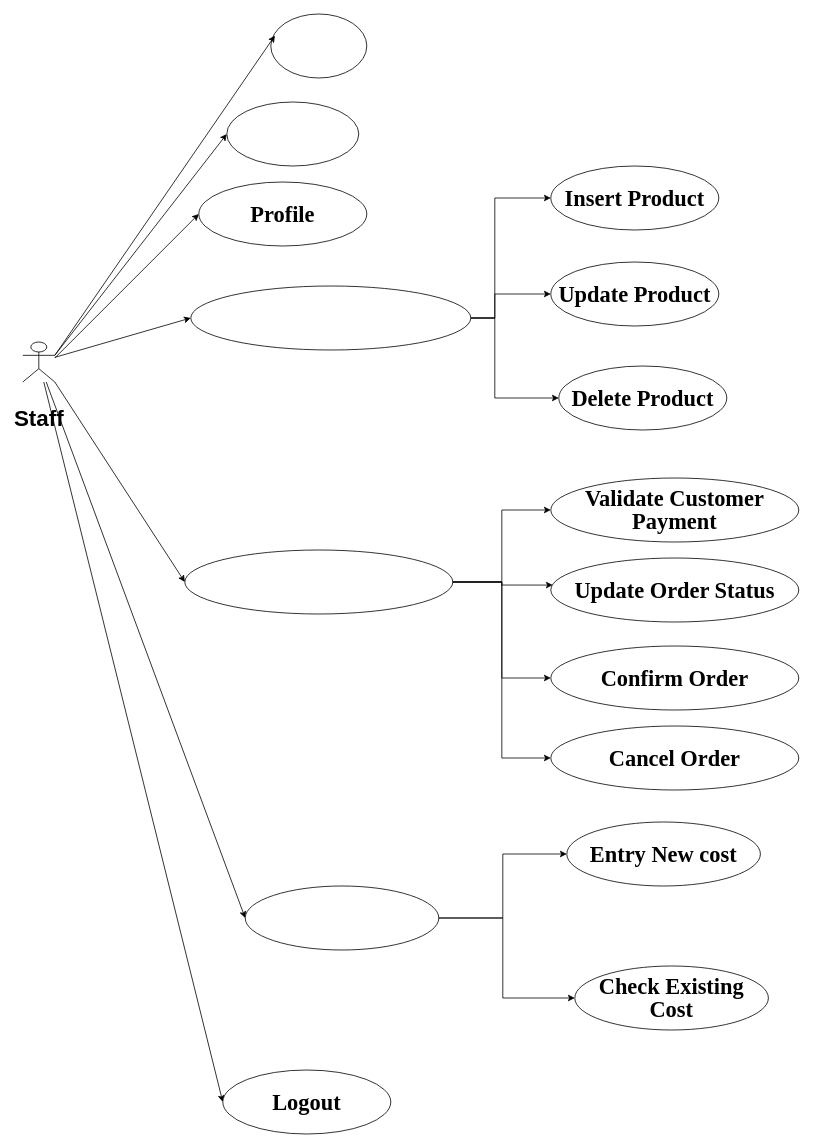
The diagram is 813 pixels wide and 1148 high, and some of its shapes have lost their labels. Here are the shapes that lost their labels. From the top down, the box of each, then its label:
(270, 13, 367, 78): Register
(226, 101, 359, 166): Login
(190, 285, 471, 350): Handle Product Operation
(184, 549, 453, 614): Handle Order Operations
(244, 885, 439, 950): Handle Cost
